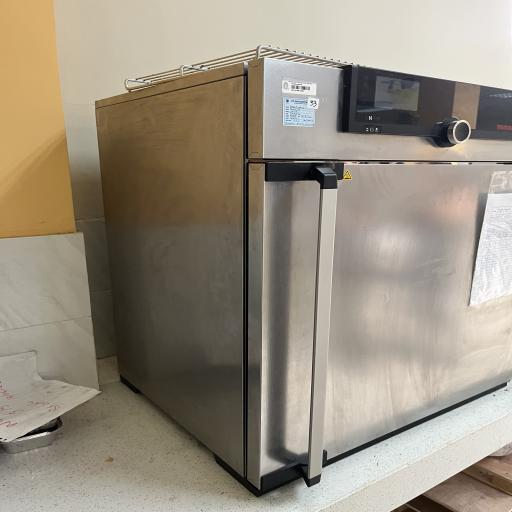Memmert_Unidad2: (78, 47, 512, 497)
